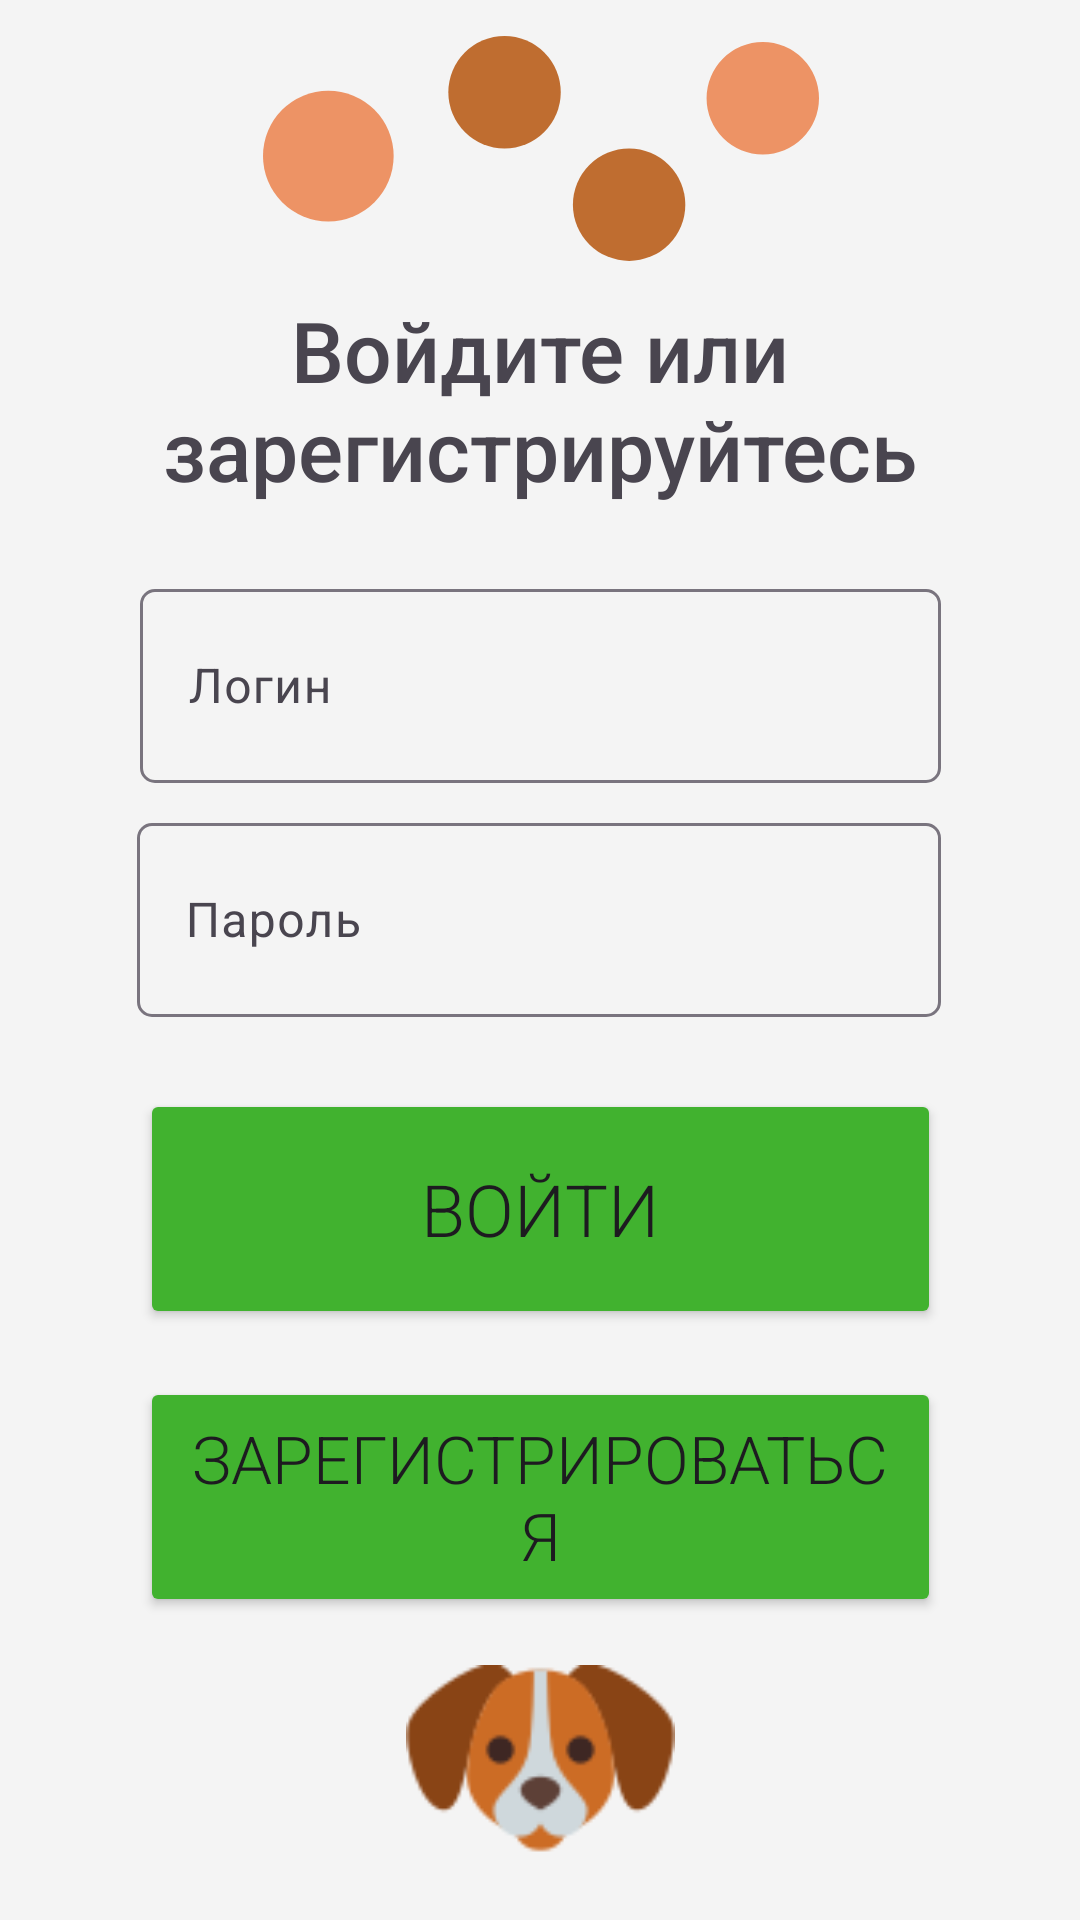

Where icons sit on this 1080*1920 app screen, as (x1, y1, x2, y2):
dog: (406, 1665, 675, 1852)
